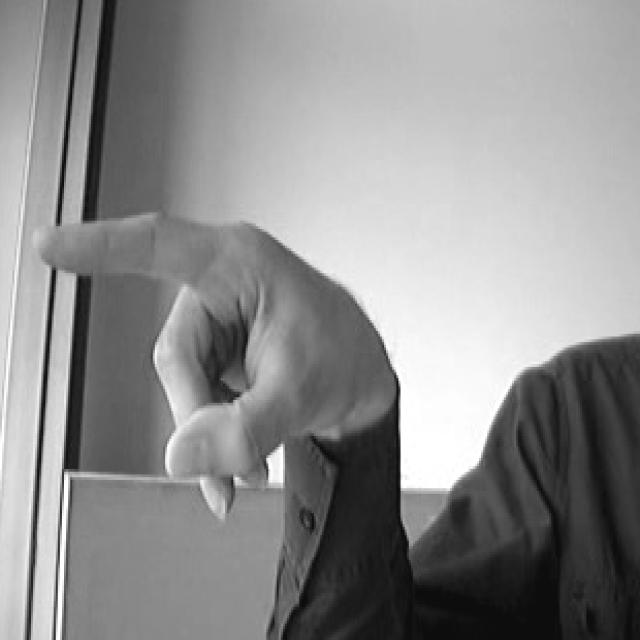P: (19, 201, 434, 534)
